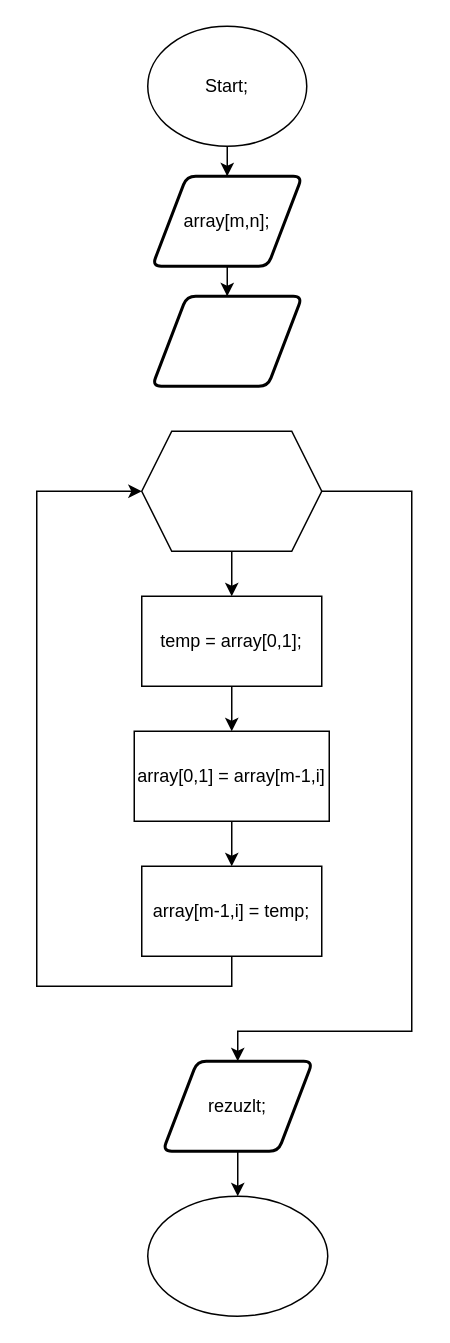
The diagram is 450 pixels wide and 1343 high, and some of its shapes have lost their labels. The centre of each missing label's shape, as x and y in pixels:
"End;" goes at (x=237, y=1255).
"i = 0; i < n; i++l" goes at (x=231, y=490).
"temp;" goes at (x=226, y=340).
